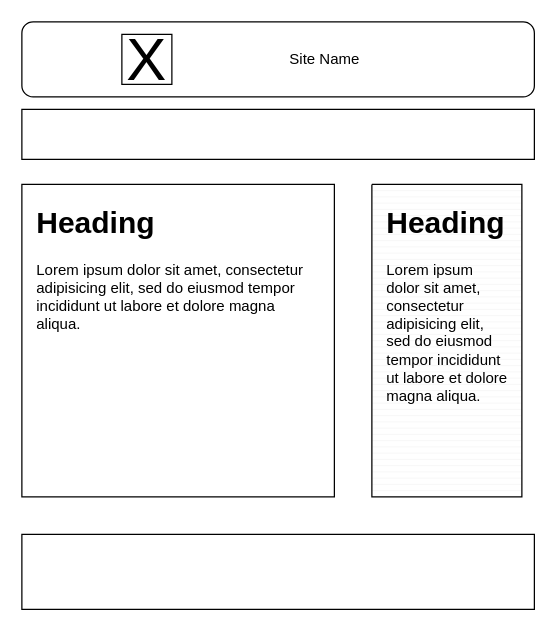
Image size: 556x631. Some labels were removed from this diagram. The shapes that lost their labels are listed below. From the top down, each one's centre as x and y in pixels, then its label:
At point (277, 133): "Navigation Menu".
At point (277, 571): "Footer".
